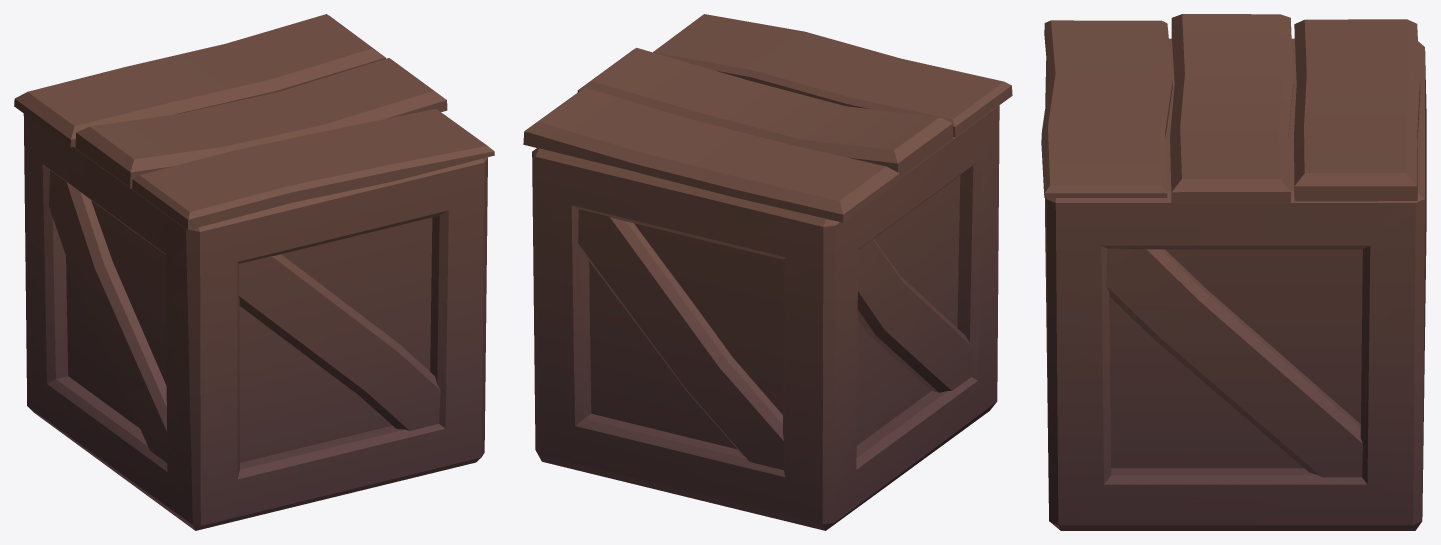
The model's file is SM_Crate_Small.fbx.
3 views of the same model, side by side, from view 1: azimuth 30°, elevation 25°; view 2: azimuth 150°, elevation 25°; view 3: azimuth 270°, elevation 25° (orthographic). The views are drawn at different scales.
Visible parts, largest first — view 1: SM_Crate; view 2: SM_Crate; view 3: SM_Crate.
Part boxes in pixels (bbox=[...]): SM_Crate: bbox=[14, 14, 494, 530]; SM_Crate: bbox=[523, 14, 1012, 530]; SM_Crate: bbox=[1041, 14, 1426, 530].
Bounding box in the file's own units: 29.54 × 29.24 × 28.06.
1 material, 1 textured.
